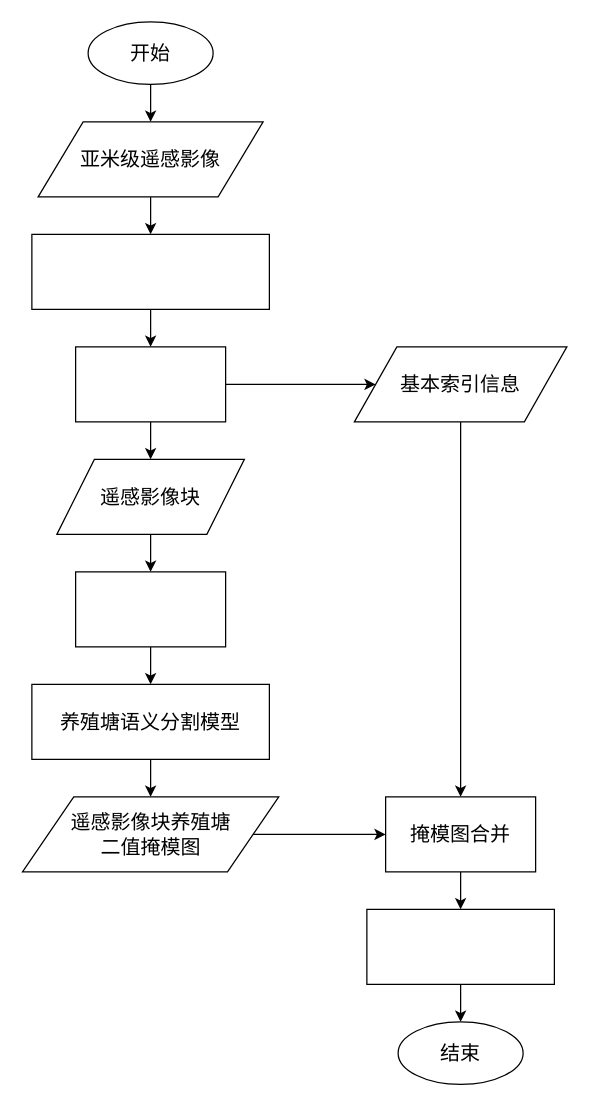
Image size: 589x1106. Some labels were removed from this diagram. Each missing label, with the centre of its shape:
参数设置 （块大小、重叠大小）: the point at 150,271
数据预处理: the point at 150,609
生成养殖塘掩模 栅格图像: the point at 460,946
裁剪分块: the point at 150,384
